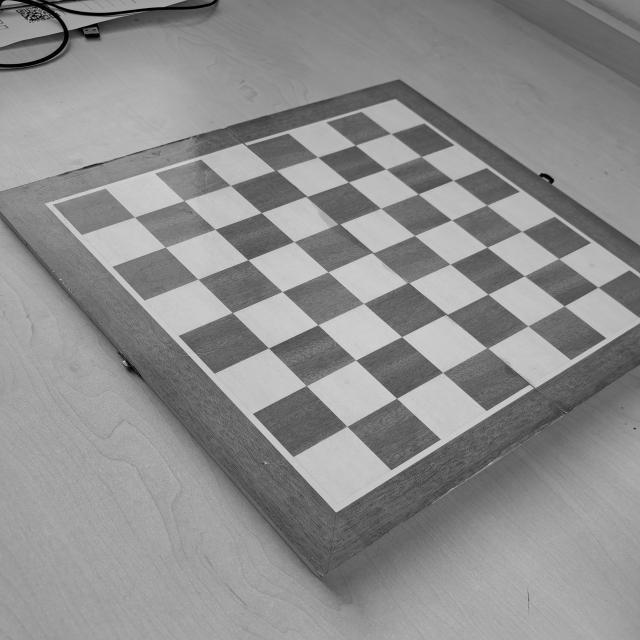chess-table-corners: (320, 491, 354, 516), (43, 197, 63, 212), (386, 95, 404, 107)
